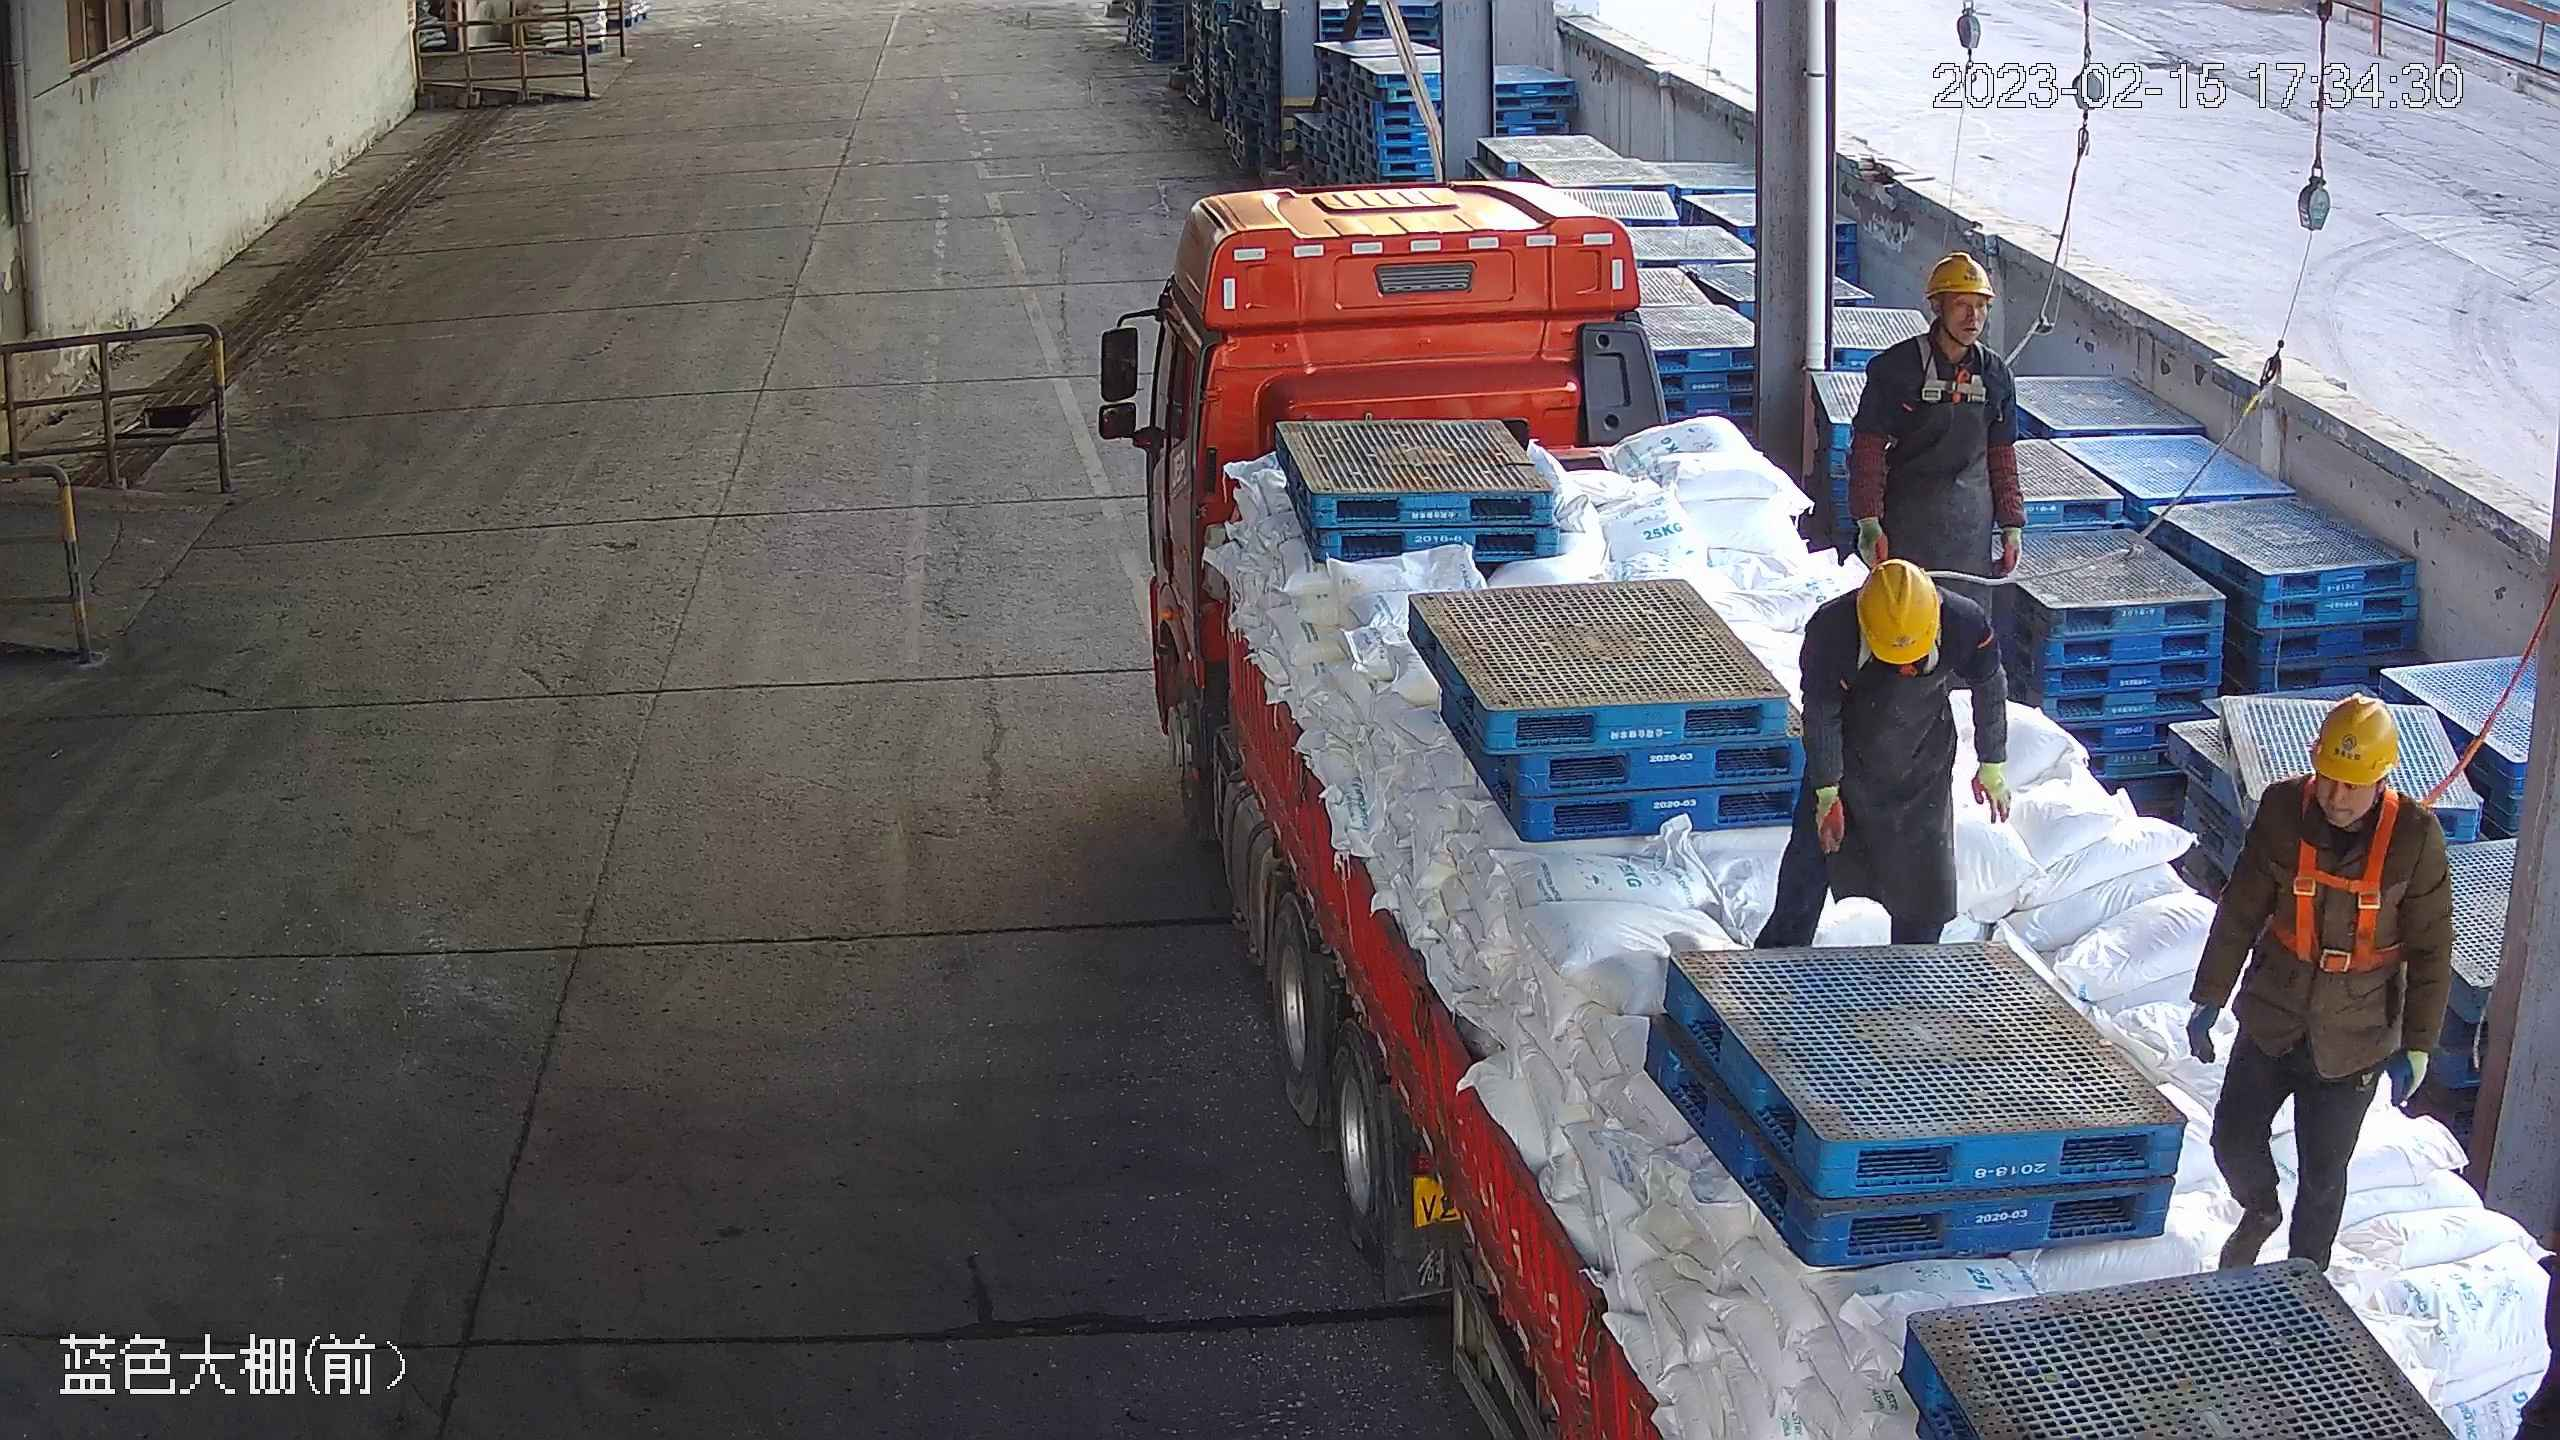belt: (2267, 773, 2449, 975), (1847, 557, 1953, 670), (1906, 340, 2023, 408)
head: (2251, 689, 2447, 851), (1797, 558, 2000, 665), (1864, 252, 2016, 390)
helmet: (1857, 557, 1940, 665), (2309, 690, 2400, 786), (1924, 251, 1995, 299)
people: (2185, 691, 2452, 1273), (1751, 558, 2014, 952), (1848, 252, 2027, 702)
truck: (1144, 177, 2560, 1440)
